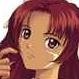NoHuman: (1, 0, 79, 79)
